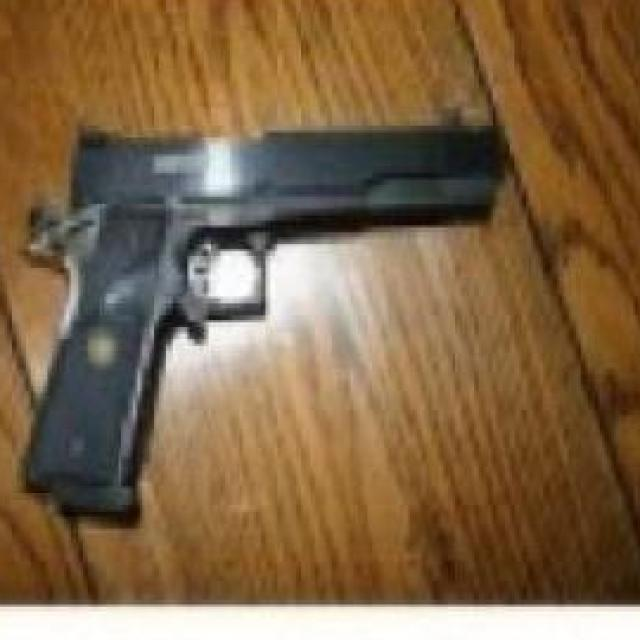pistol: (16, 106, 510, 534)
